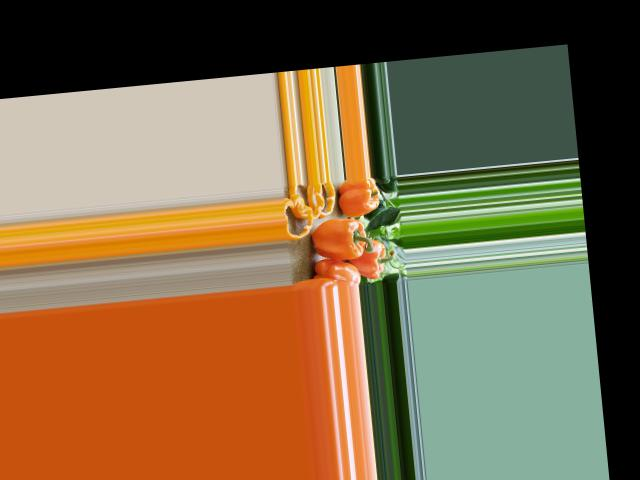bell_pepper: (310, 256, 362, 289)
